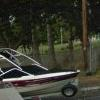Boat: (4, 41, 88, 100)
